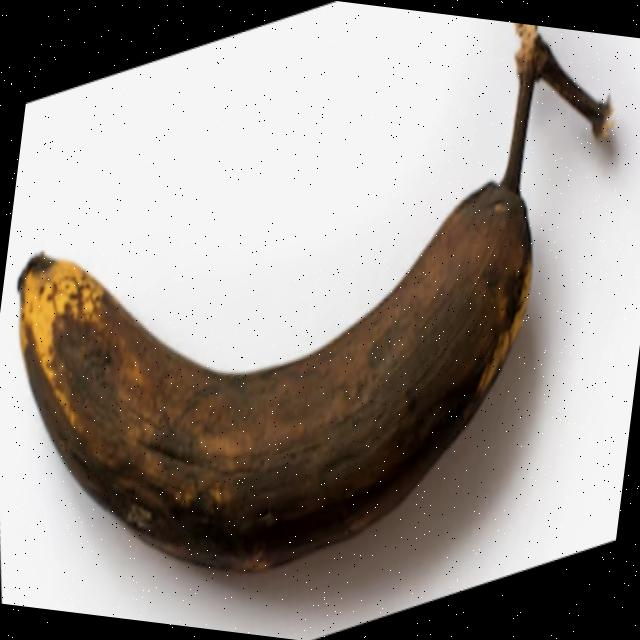Rotten: (0, 14, 555, 603)
